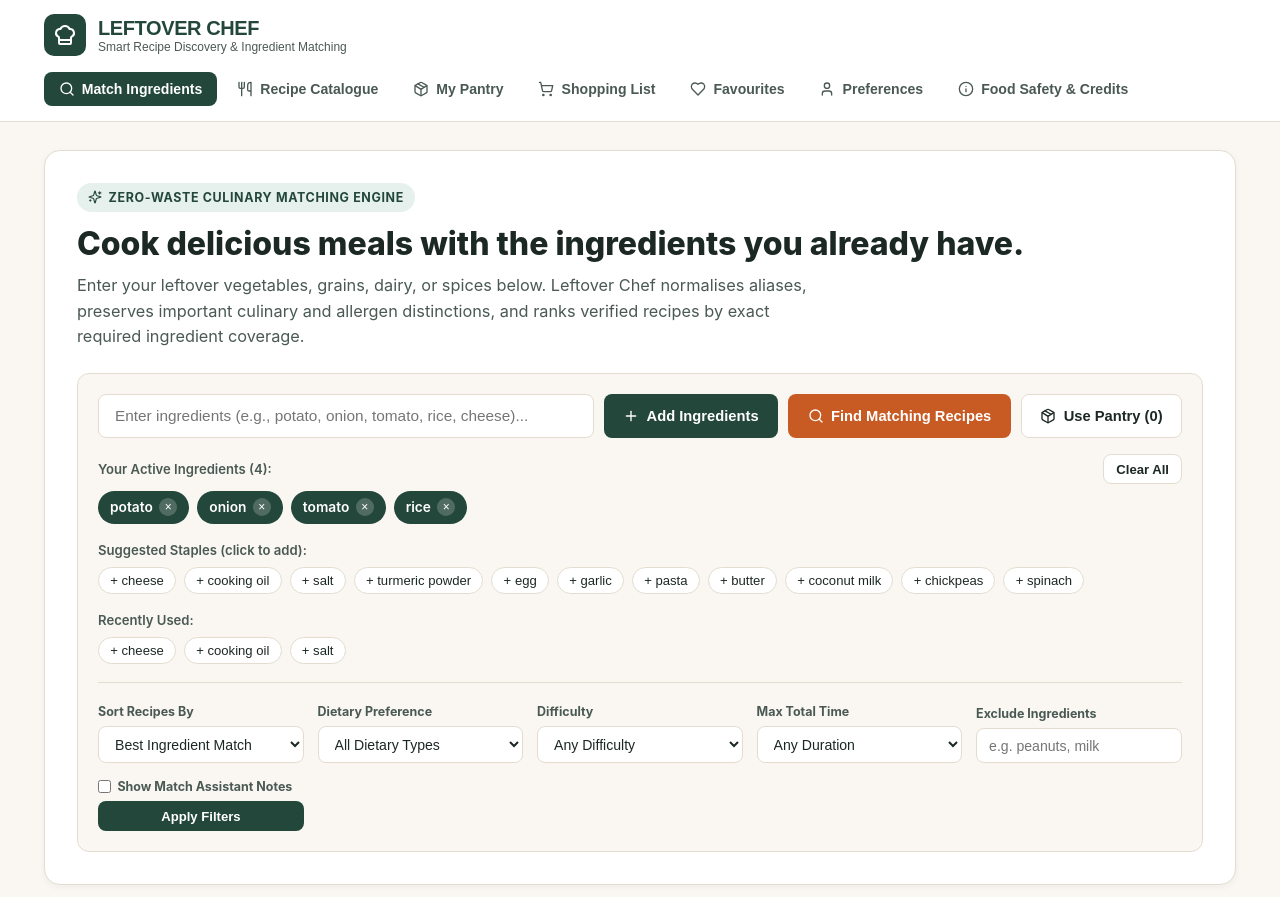
Test: Leftover Chef Frontend Verification Suite (TC-53 to TC-60) › TC-55: Displays understandable error message when submitting empty ingredient text or on API failure
Step 1. Click the button "Add Ingredients" → (691, 416), box [604, 394, 778, 438]
(page scrolled)
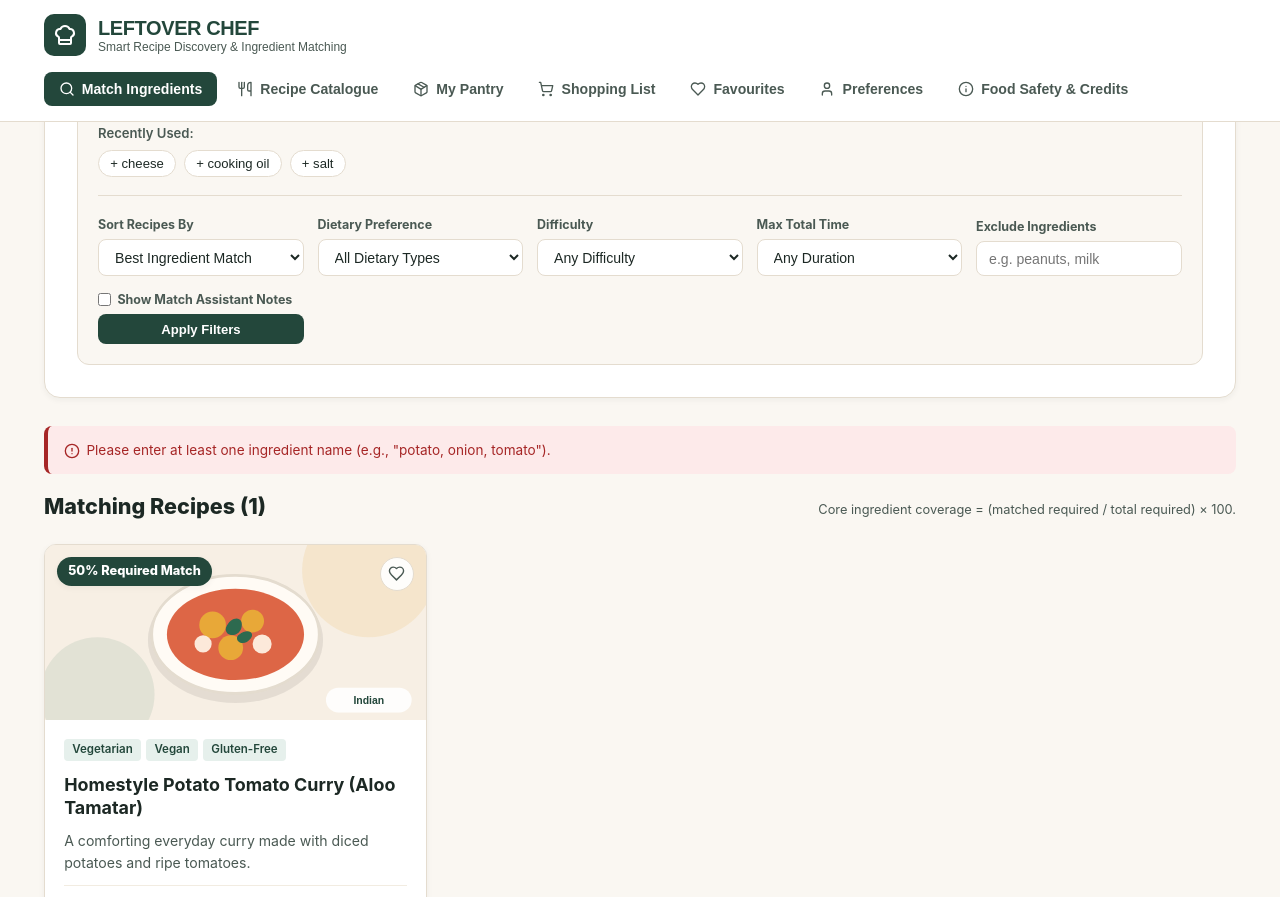
Expected: the message shows "Please enter at least one ingredient", [86, 442, 551, 458]
